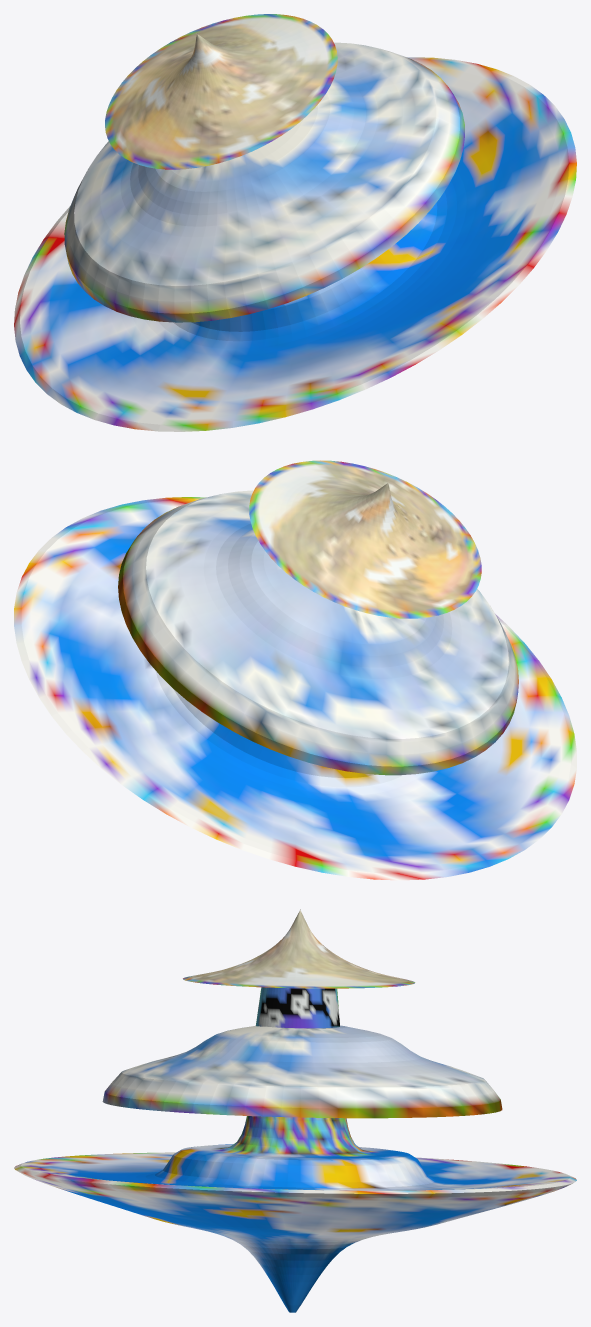
The model's file is april28outdoorpagoda11.glb.
3 views of the same model, one above another, from view 1: azimuth 30°, elevation 25°; view 2: azimuth 150°, elevation 25°; view 3: azimuth 270°, elevation 25° (orthographic). The views are drawn at different scales.
Parts seen in each view (by area): view 1: Lathe 4, Lathe 3, Lathe; view 2: Lathe 4, Lathe 3, Lathe; view 3: Lathe 4, Lathe 3, Lathe, Lathe.001.
Boxes of the visible parts, bbox=[...] form: Lathe 4: bbox=[14, 57, 576, 431]; Lathe 3: bbox=[64, 42, 464, 322]; Lathe: bbox=[105, 14, 337, 169]; Lathe 4: bbox=[14, 497, 576, 880]; Lathe 3: bbox=[118, 490, 518, 775]; Lathe: bbox=[249, 460, 481, 618]; Lathe 4: bbox=[14, 1116, 576, 1312]; Lathe 3: bbox=[102, 1025, 502, 1118]; Lathe: bbox=[183, 909, 415, 988]; Lathe.001: bbox=[255, 987, 339, 1028].
Size of the model in its own units: 3.49 by 2.48 by 3.74.
